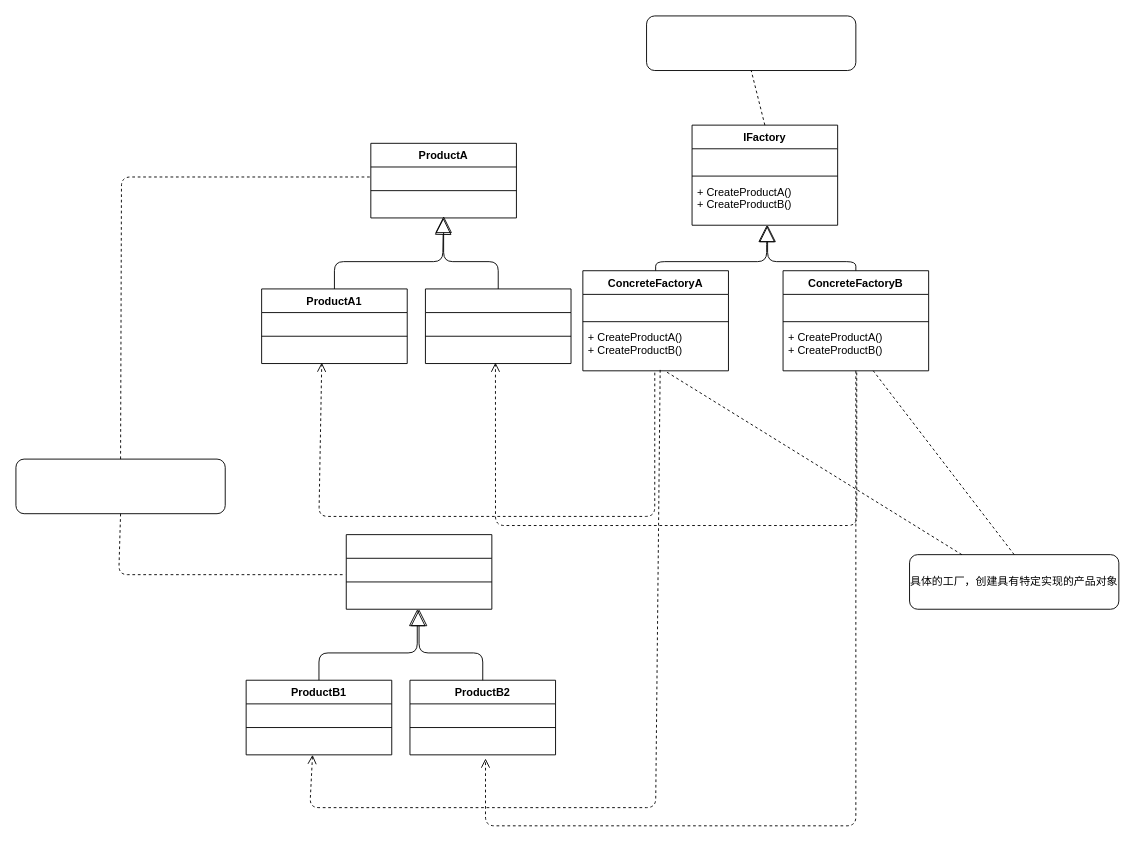
Some shapes in this 1135 by 851 pixel diagram are drawn without their labels. Here are the shapes that lost their labels. From the top down, the centre of each, then its label:
At (751,43): "抽象工厂接口，它里面应该包含所有的产品创建的抽象方法".
At (498,326): "ProductA2".
At (120,486): "抽象产品，它们都有可能有两种不同的实现".
At (418,571): "ProductB".
